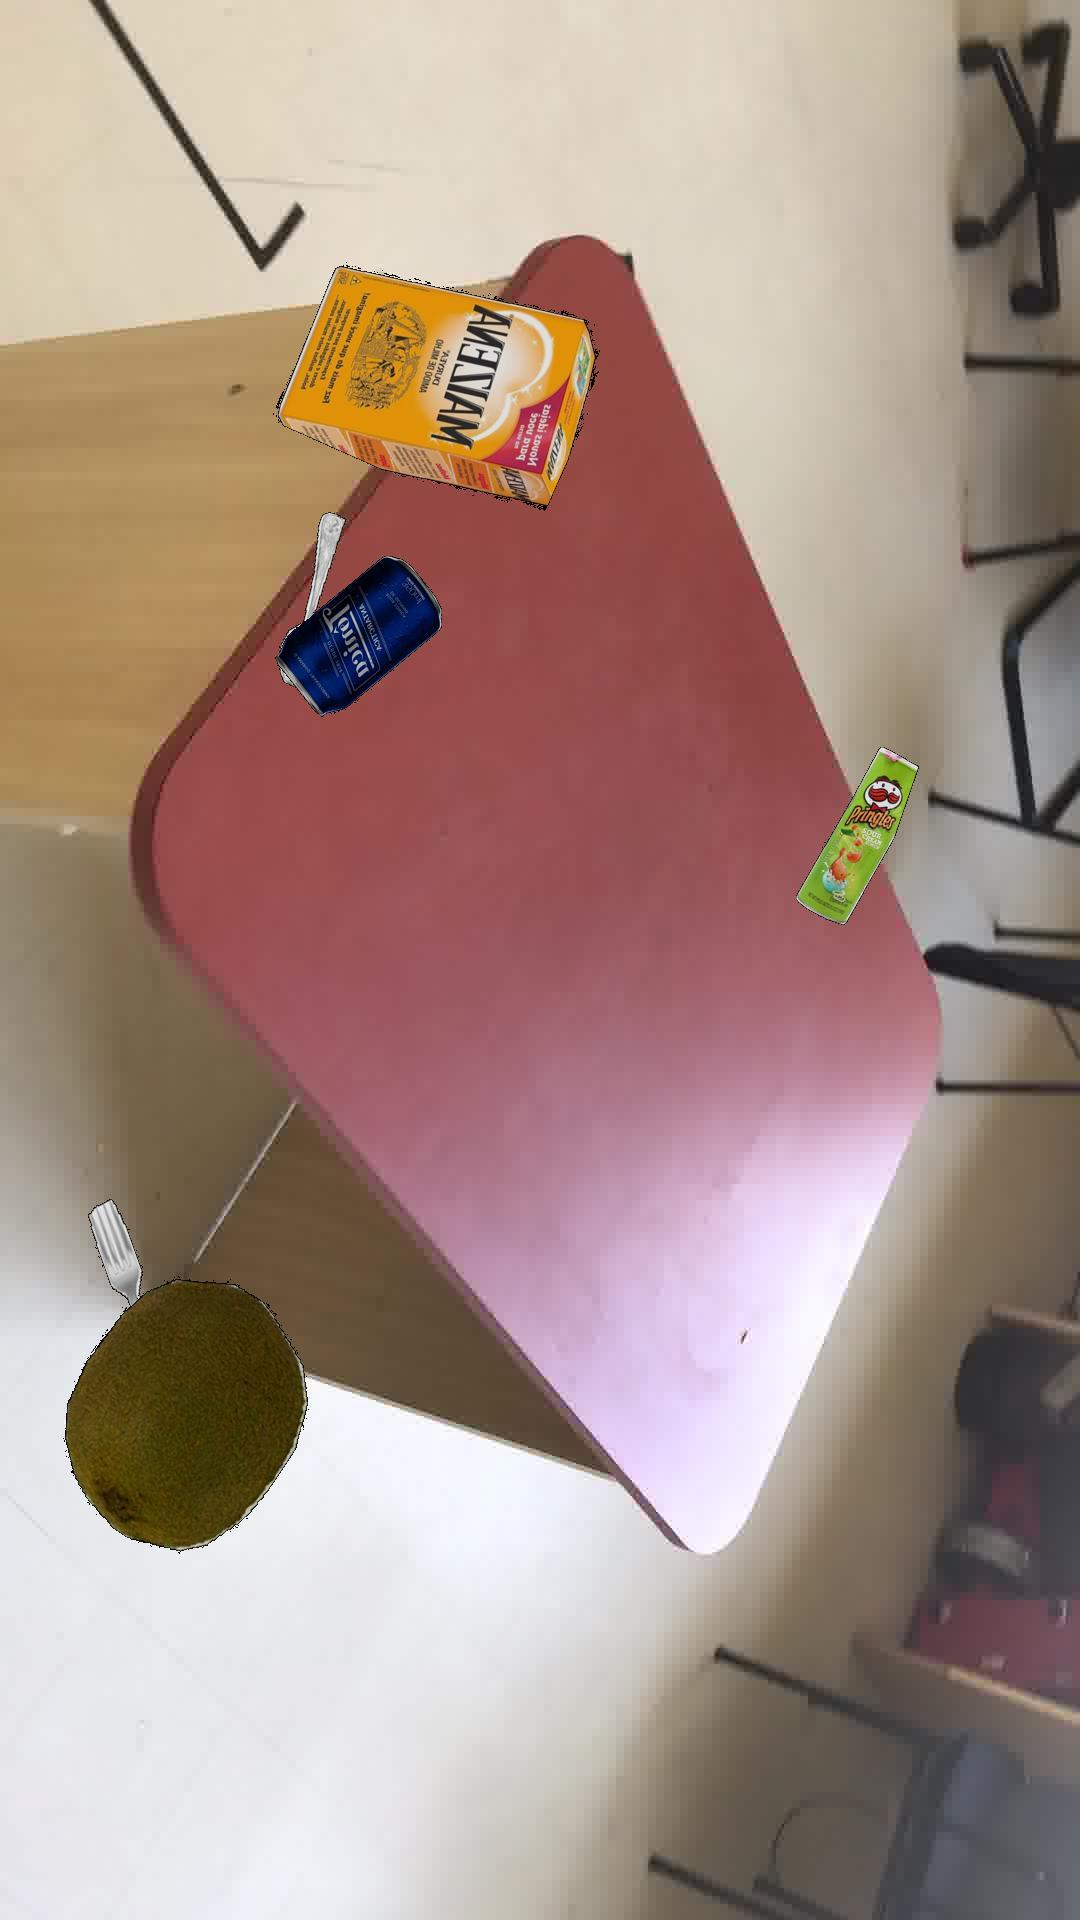fork: (87, 1197, 141, 1304)
kiwi: (63, 1278, 306, 1551)
pringles: (794, 745, 918, 923)
spoon: (278, 510, 344, 686)
tonic: (273, 554, 440, 716)
